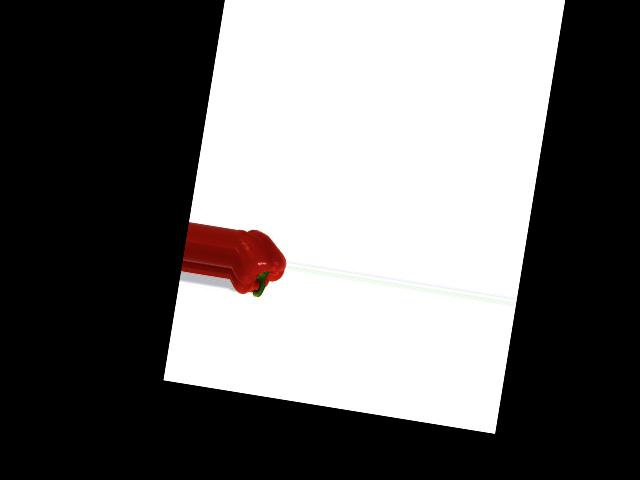bell_pepper: (225, 219, 292, 309)
